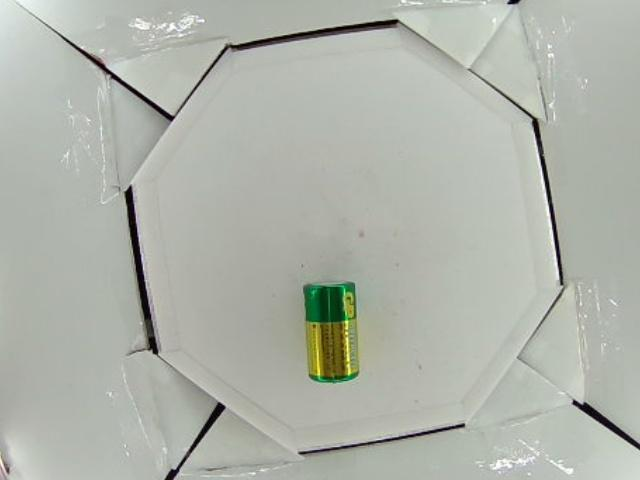Battery: (307, 279, 359, 385)
